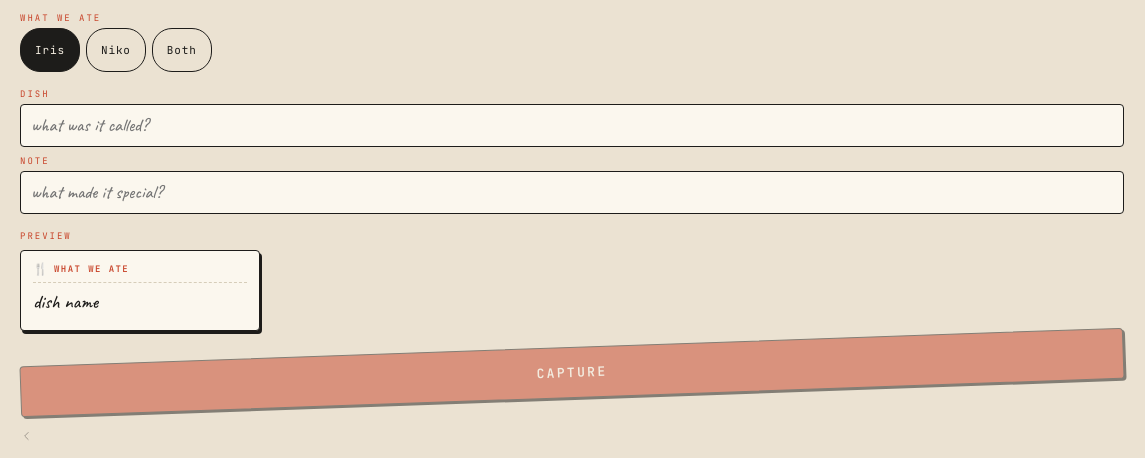
Test case: AddFoodSheet › FoodCard preview updates as user types the dish name
Type "Trdelník" into the field named "dish name" at {"x": 572, "y": 126}, box [20,104,1124,147]
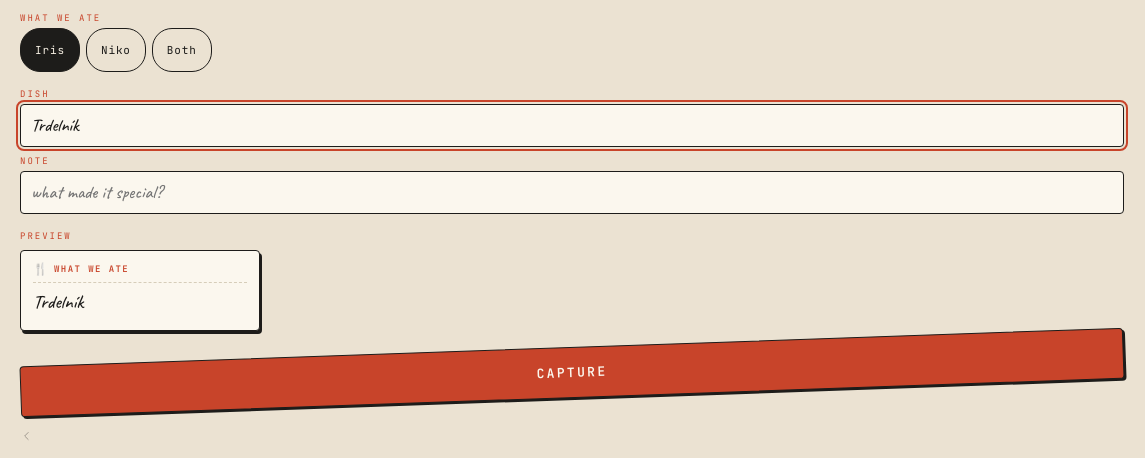
Expected: the element named "food memory: trdelník" is shown, [20,250,260,331]
